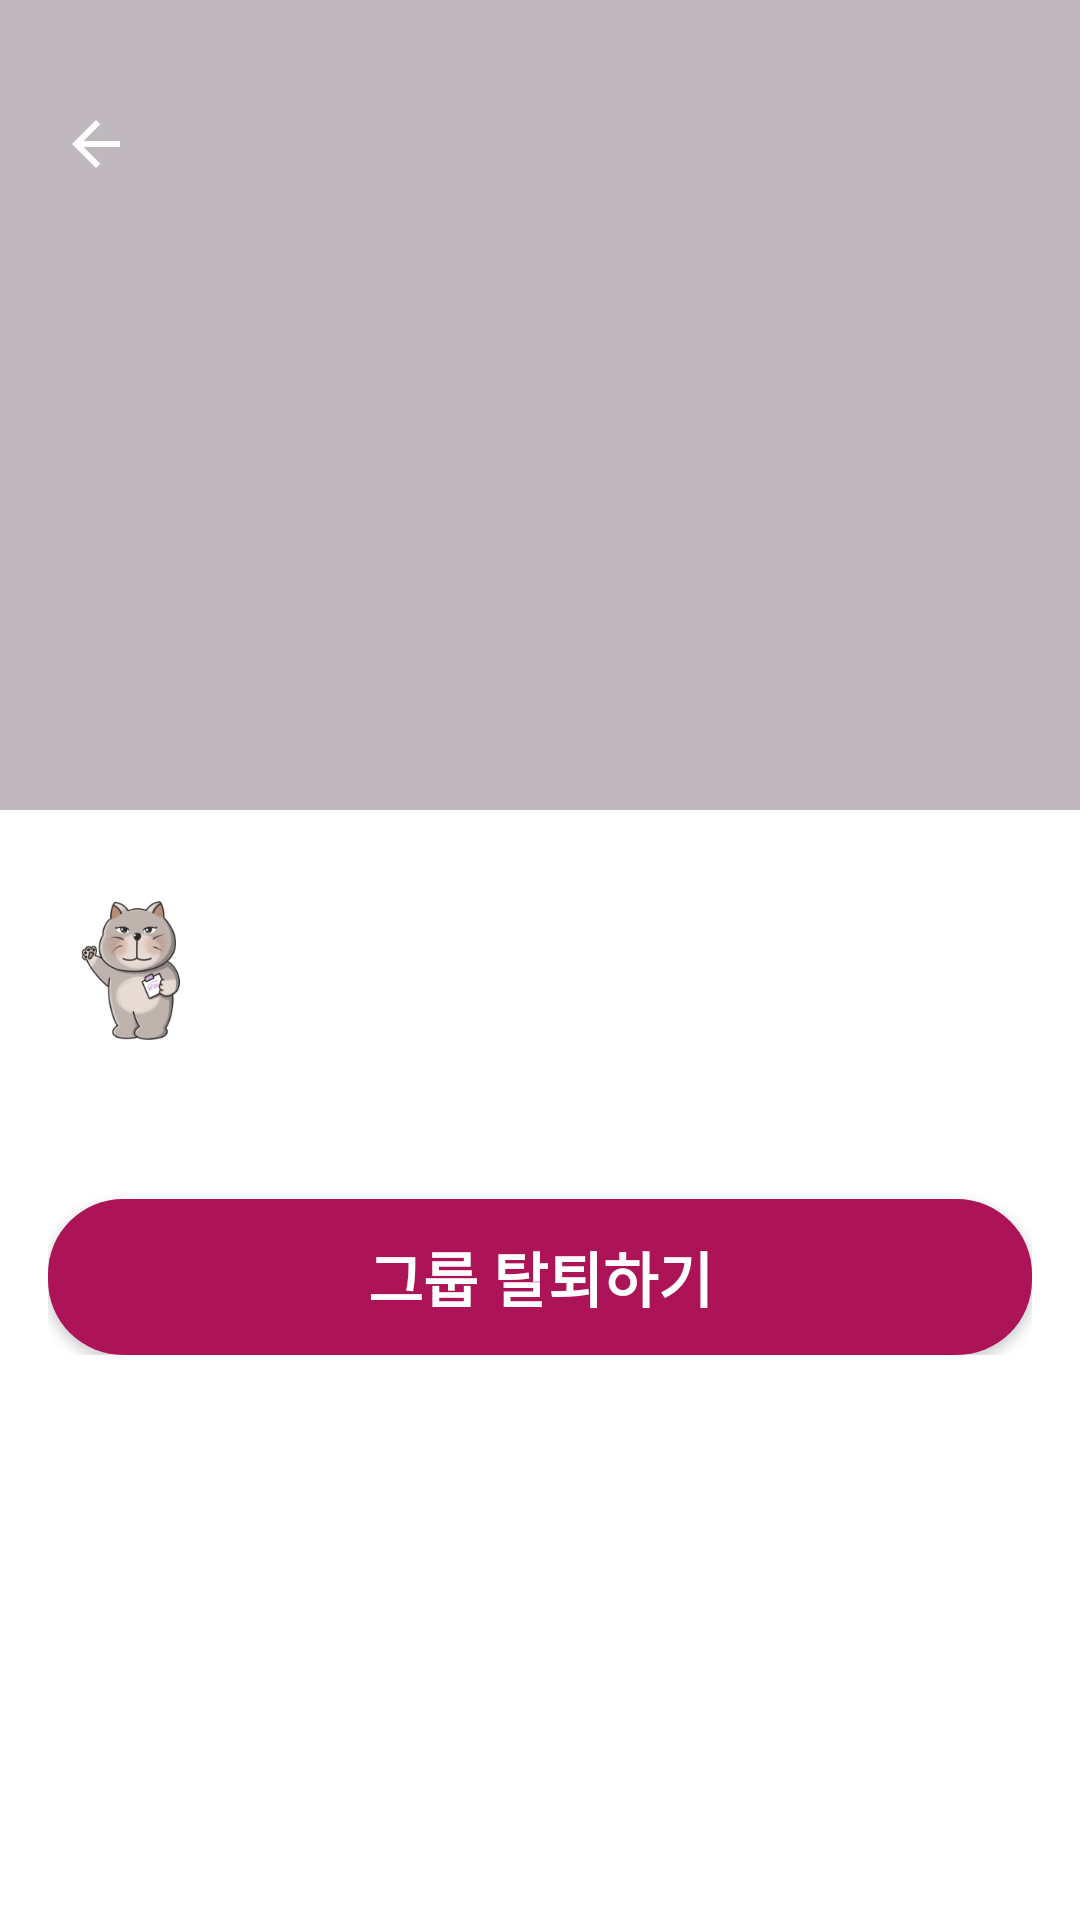

Point at icon controls on the screen. Image size 1080x1920, points as (x,y).
뒤로가기: (96,144)
